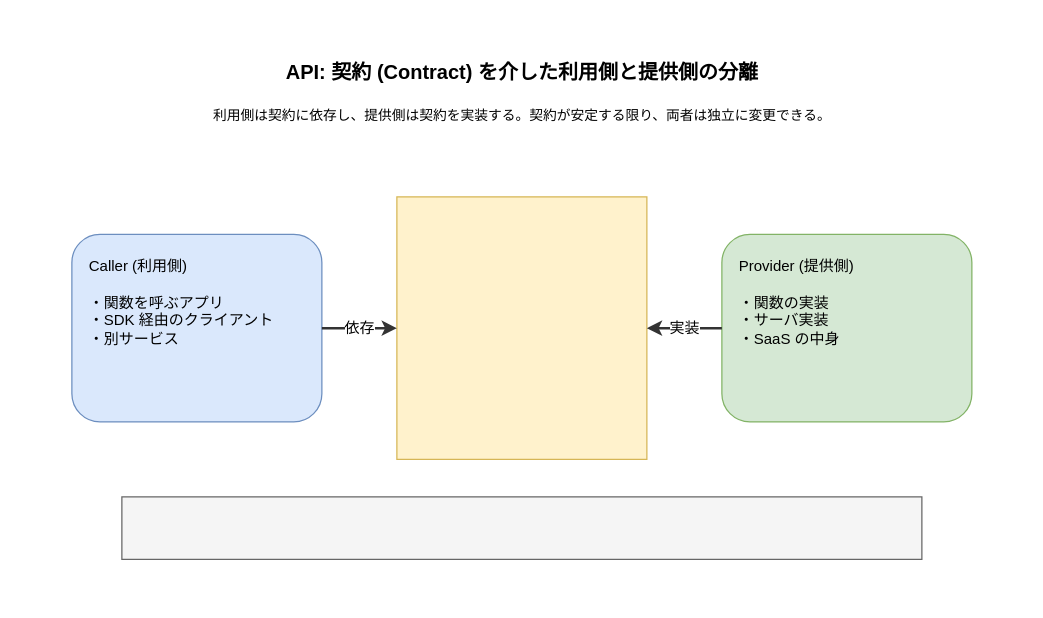
This 1043x618 diagram has some shape labels left out. Here are the shapes that lost their labels. From the top down, the centre of each, then its label:
At point (521, 327): "API 契約 (Contract) ・操作 (メソッド名) ・入力 (パラメータ型) ・出力 (戻り値型) ・誤りの表現 (エラー) ・前提条件 / 不変条件".
At point (521, 527): "契約が安定すれば、利用側は提供側の実装変更を意識せずに使い続けられる。これが API の最大の価値である。".
